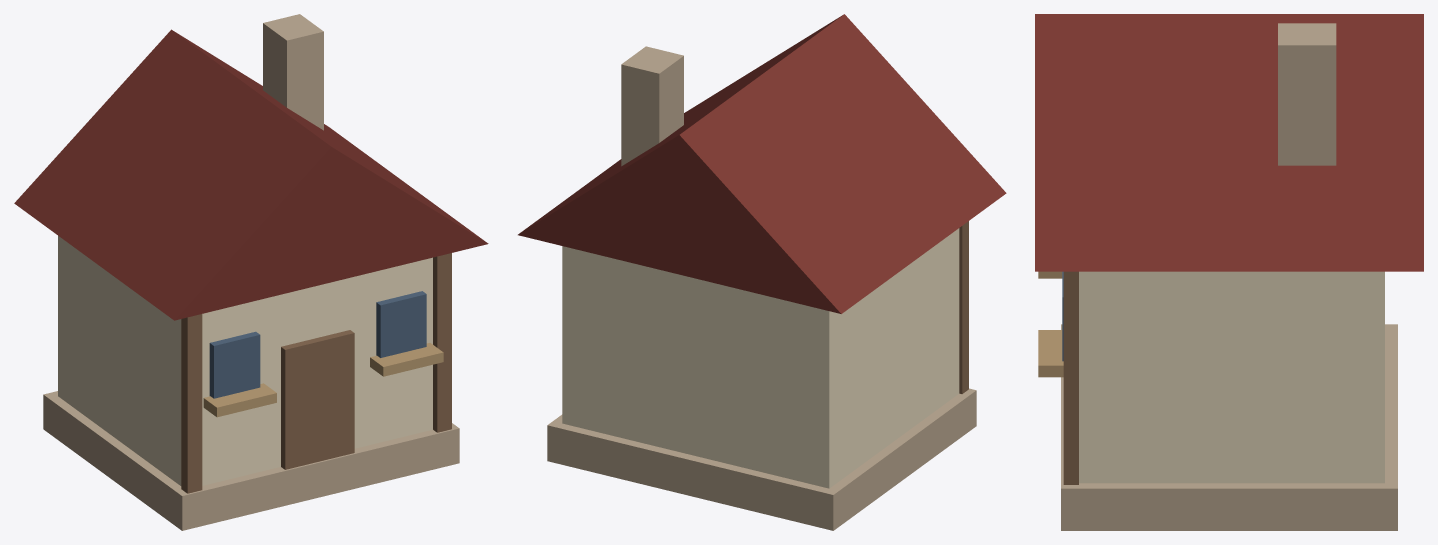
Rendered from house.glb.
The picture shows the model from 3 angles, left to right: view 1: azimuth 30°, elevation 25°; view 2: azimuth 150°, elevation 25°; view 3: azimuth 270°, elevation 25°; orthographic projection. The views are drawn at different scales.
Parts seen in each view (by area): view 1: house; view 2: house; view 3: house.
Part boxes in pixels (<box>): house: <box>14,14,488,530</box>; house: <box>518,14,1006,530</box>; house: <box>1035,14,1423,530</box>.
Size of the model in its own units: 3.4 by 3.9 by 3.
